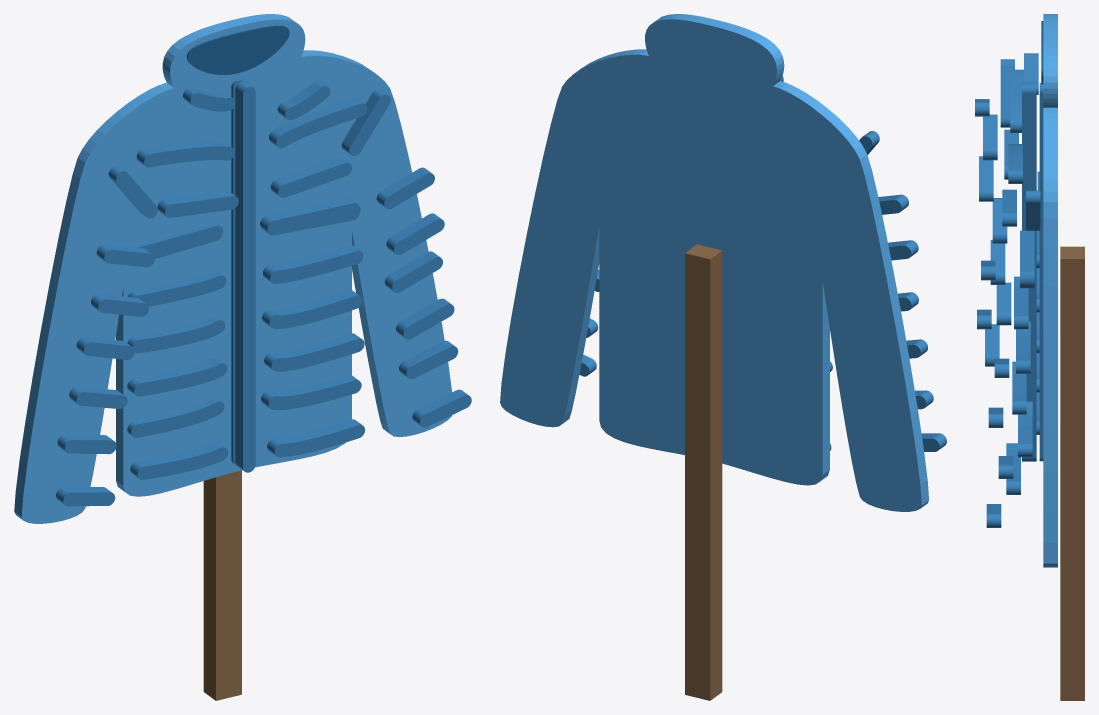
The model's file is manteau.glb.
3 renders of one model, left to right at view 1: azimuth 30°, elevation 25°; view 2: azimuth 150°, elevation 25°; view 3: azimuth 270°, elevation 25°, orthographic. The views are drawn at different scales.
Size of the model in its own units: 0.9996 by 1.5 by 0.225.
